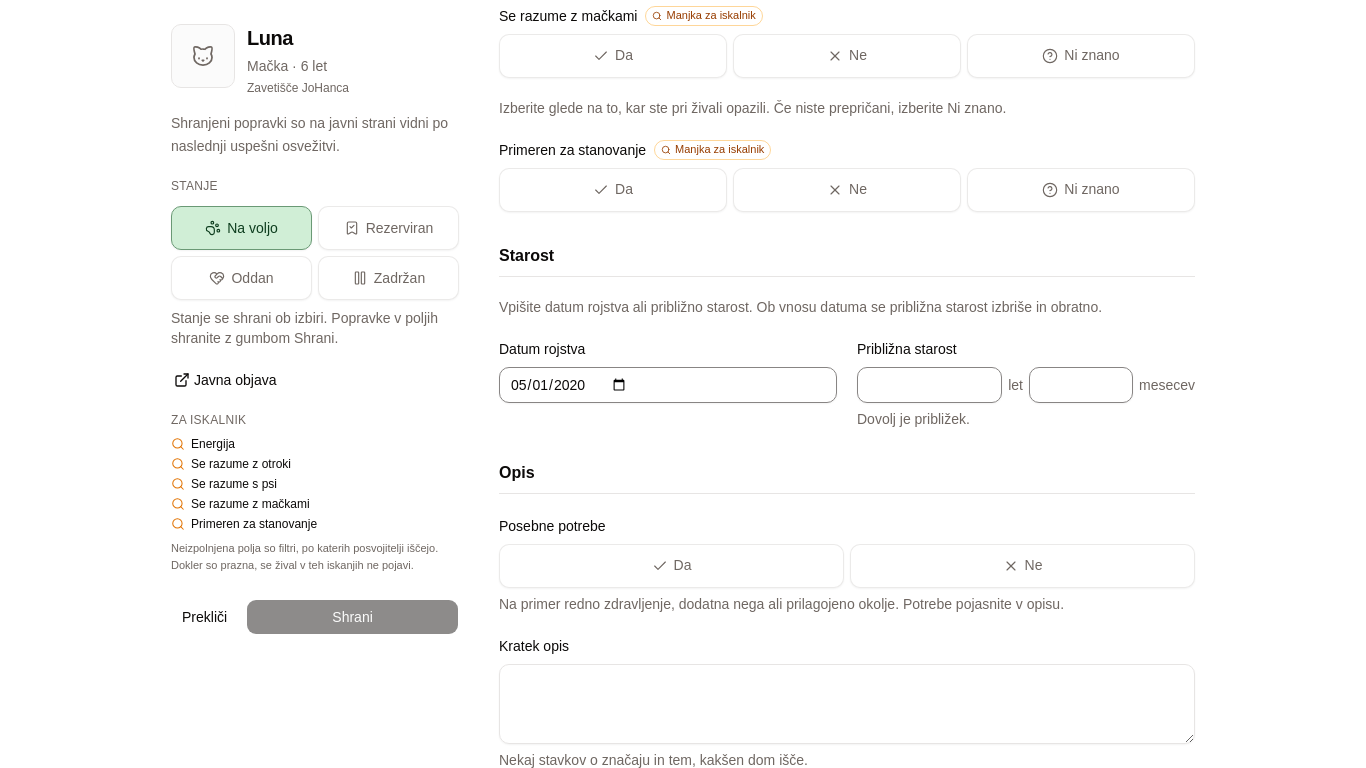
a box the browser could not read › does not clear a birth date it could not read
(page scrolled)
Clear the date field labelled "Datum rojstva" at (668, 384), box [499, 366, 837, 402]
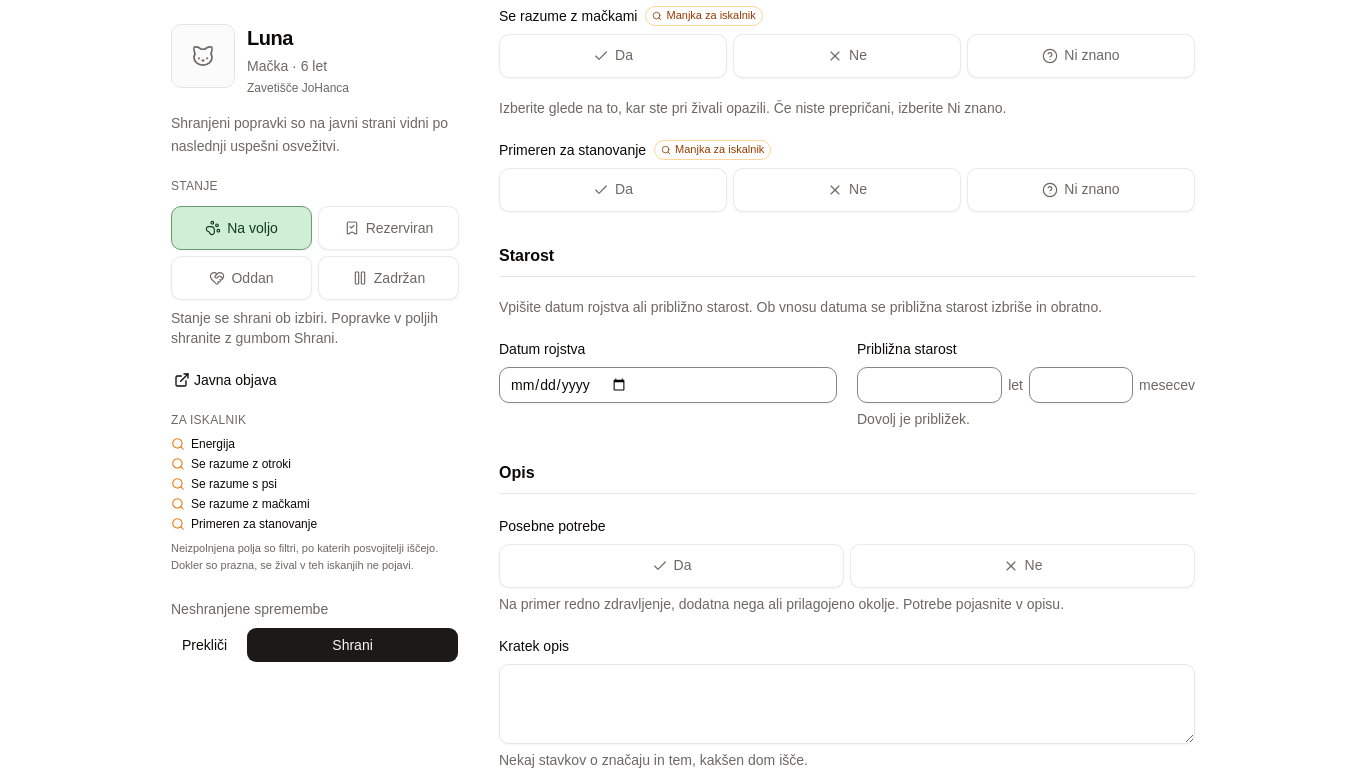
Click the button "Shrani" at (353, 645), box [246, 627, 459, 663]
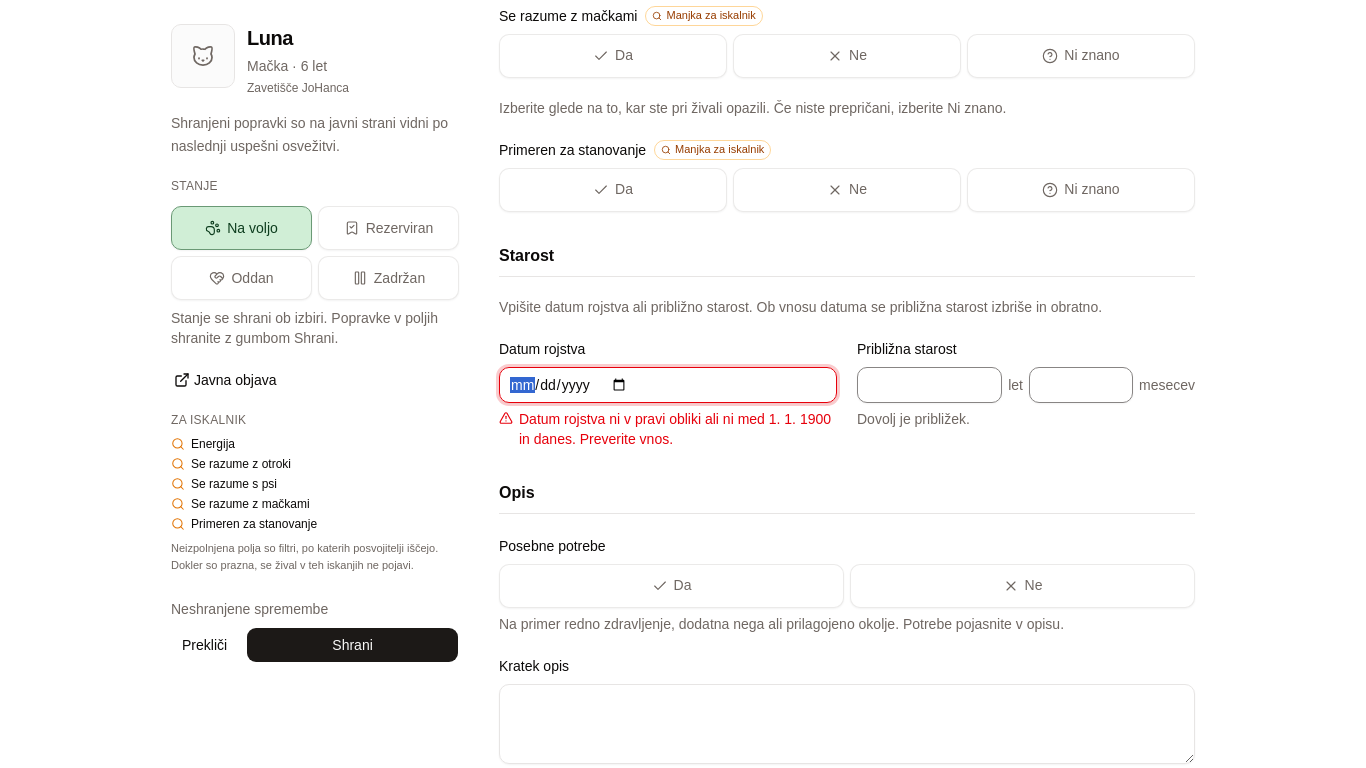
Expected: the 1st message reads "Datum rojstva ni v pravi obliki ali ni med 1. 1. 1900 in danes. Preverite vnos.", [519, 410, 831, 446]
